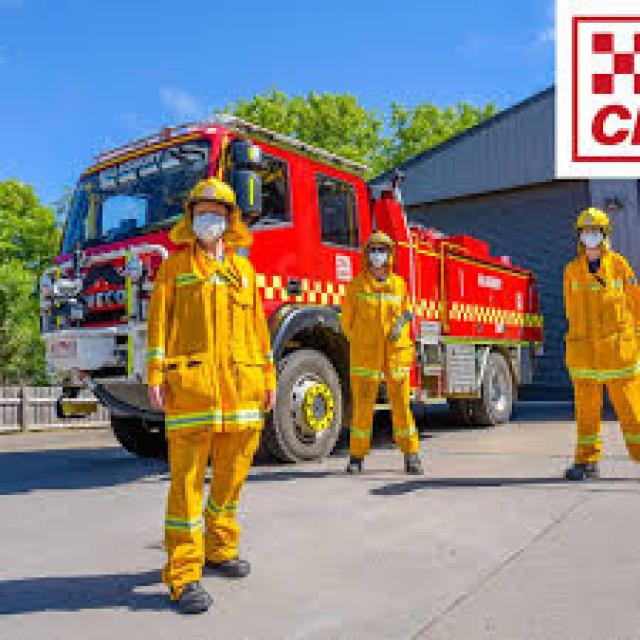Fire_brigade: (40, 105, 563, 458)
